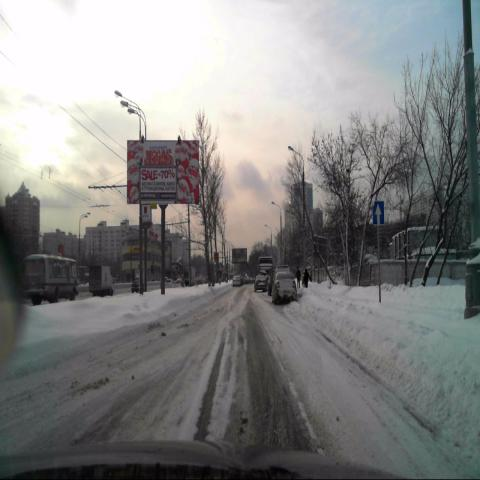5_5: (372, 201, 386, 226)
